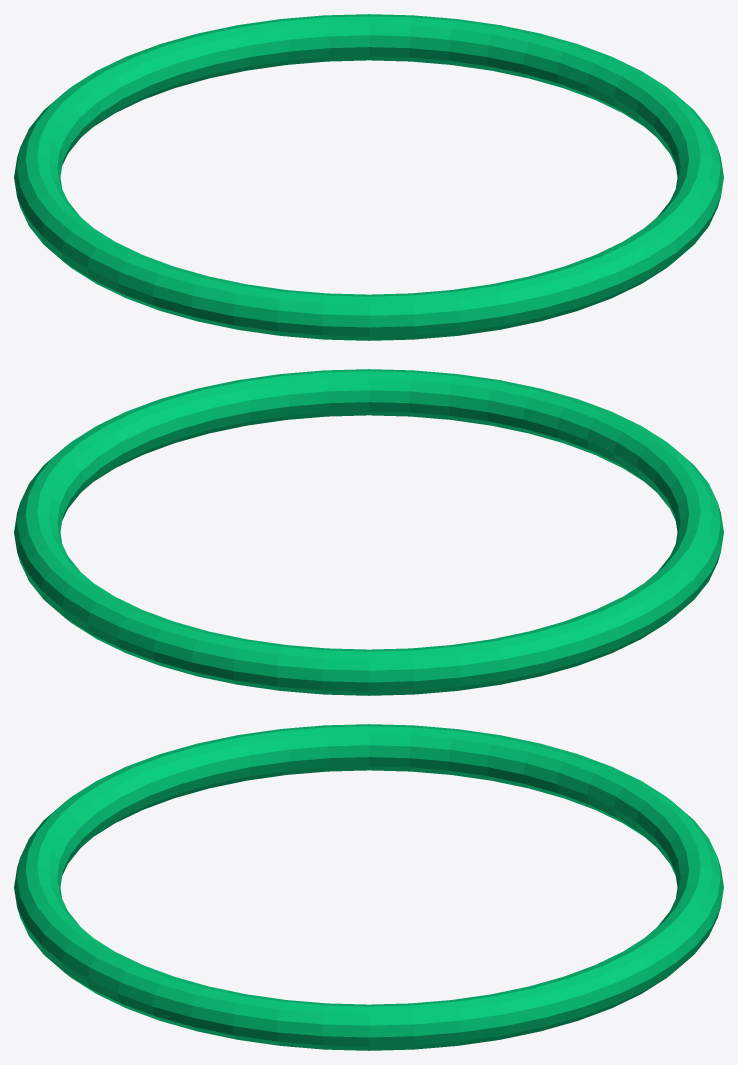
Rendered from hoop2.obj.
3 views of the same model, one above another, from view 1: azimuth 30°, elevation 25°; view 2: azimuth 150°, elevation 25°; view 3: azimuth 270°, elevation 25° (orthographic).
Visible parts, largest first — view 1: Torus; view 2: Torus; view 3: Torus.
Part boxes in pixels (x1,y1,x2,y2): Torus: (14,14,723,340); Torus: (14,369,723,695); Torus: (14,724,723,1050).
Bounding box in the file's own units: 2.14 × 0.14 × 2.14.
